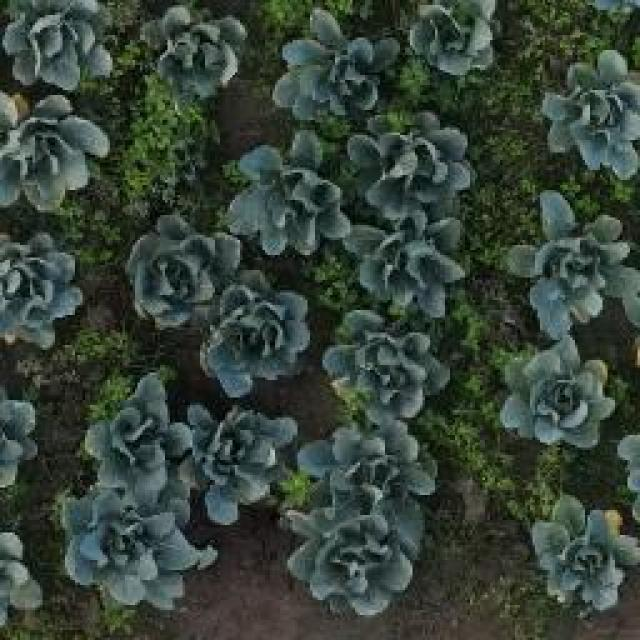cabbage: (64, 490, 210, 616), (225, 131, 348, 255), (292, 496, 422, 613), (520, 207, 639, 323), (0, 88, 112, 208), (347, 108, 475, 212), (332, 302, 442, 420), (183, 400, 298, 512), (200, 279, 313, 392), (125, 213, 238, 321), (276, 8, 390, 112), (543, 53, 640, 168), (136, 3, 248, 102), (354, 215, 468, 312), (505, 343, 605, 449), (534, 503, 640, 602), (1, 0, 119, 86), (96, 374, 185, 487), (312, 419, 436, 500), (0, 230, 82, 350), (408, 0, 506, 84)
